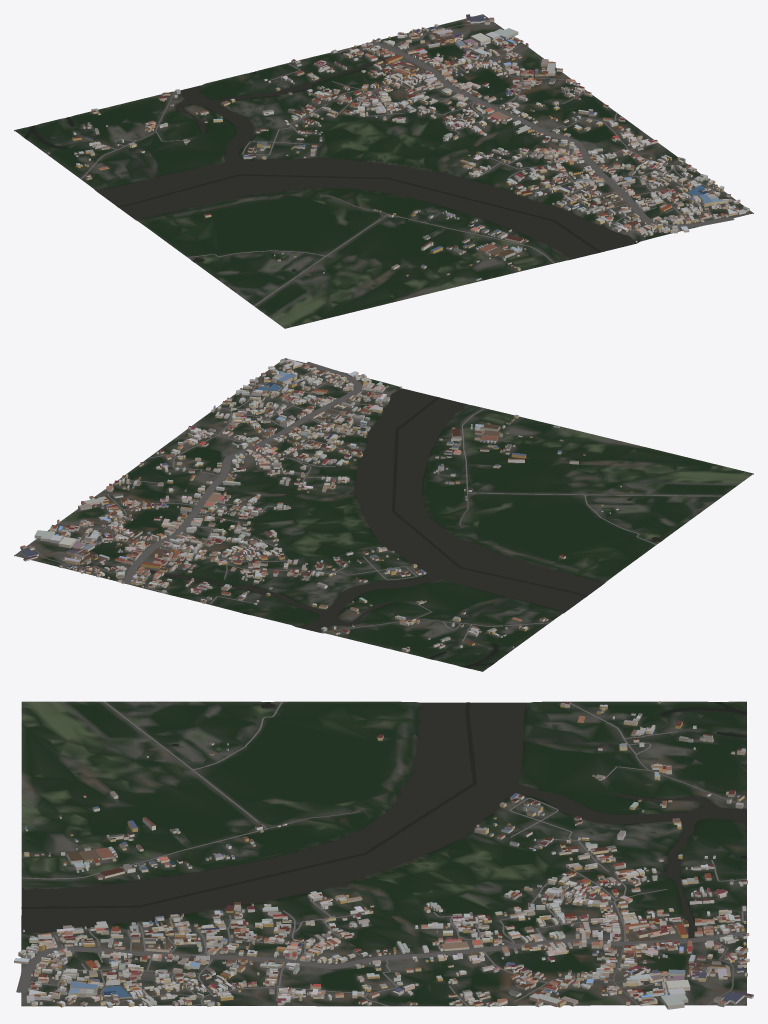
3 renders of one model, top to bottom at view 1: azimuth 30°, elevation 25°; view 2: azimuth 150°, elevation 25°; view 3: azimuth 270°, elevation 25°, orthographic. The views are drawn at different scales.
Visible parts, largest first — view 1: ground, buildings, water, roads; view 2: ground, buildings, water, roads; view 3: ground, buildings, water, roads.
Part boxes in pixels (left/top/right/bottom): ground: left=14, top=14, right=753, bottom=328; buildings: left=48, top=14, right=749, bottom=280; water: left=24, top=58, right=635, bottom=271; roads: left=80, top=24, right=734, bottom=306; ground: left=14, top=358, right=753, bottom=671; buildings: left=19, top=358, right=621, bottom=652; water: left=138, top=388, right=661, bottom=667; roads: left=28, top=362, right=722, bottom=641; ground: left=21, top=701, right=746, bottom=1006; buildings: left=14, top=701, right=753, bottom=1009; water: left=21, top=702, right=746, bottom=938; roads: left=16, top=701, right=747, bottom=1006.
Bounding box in the file's own units: 1418 × 21.68 × 1429.
